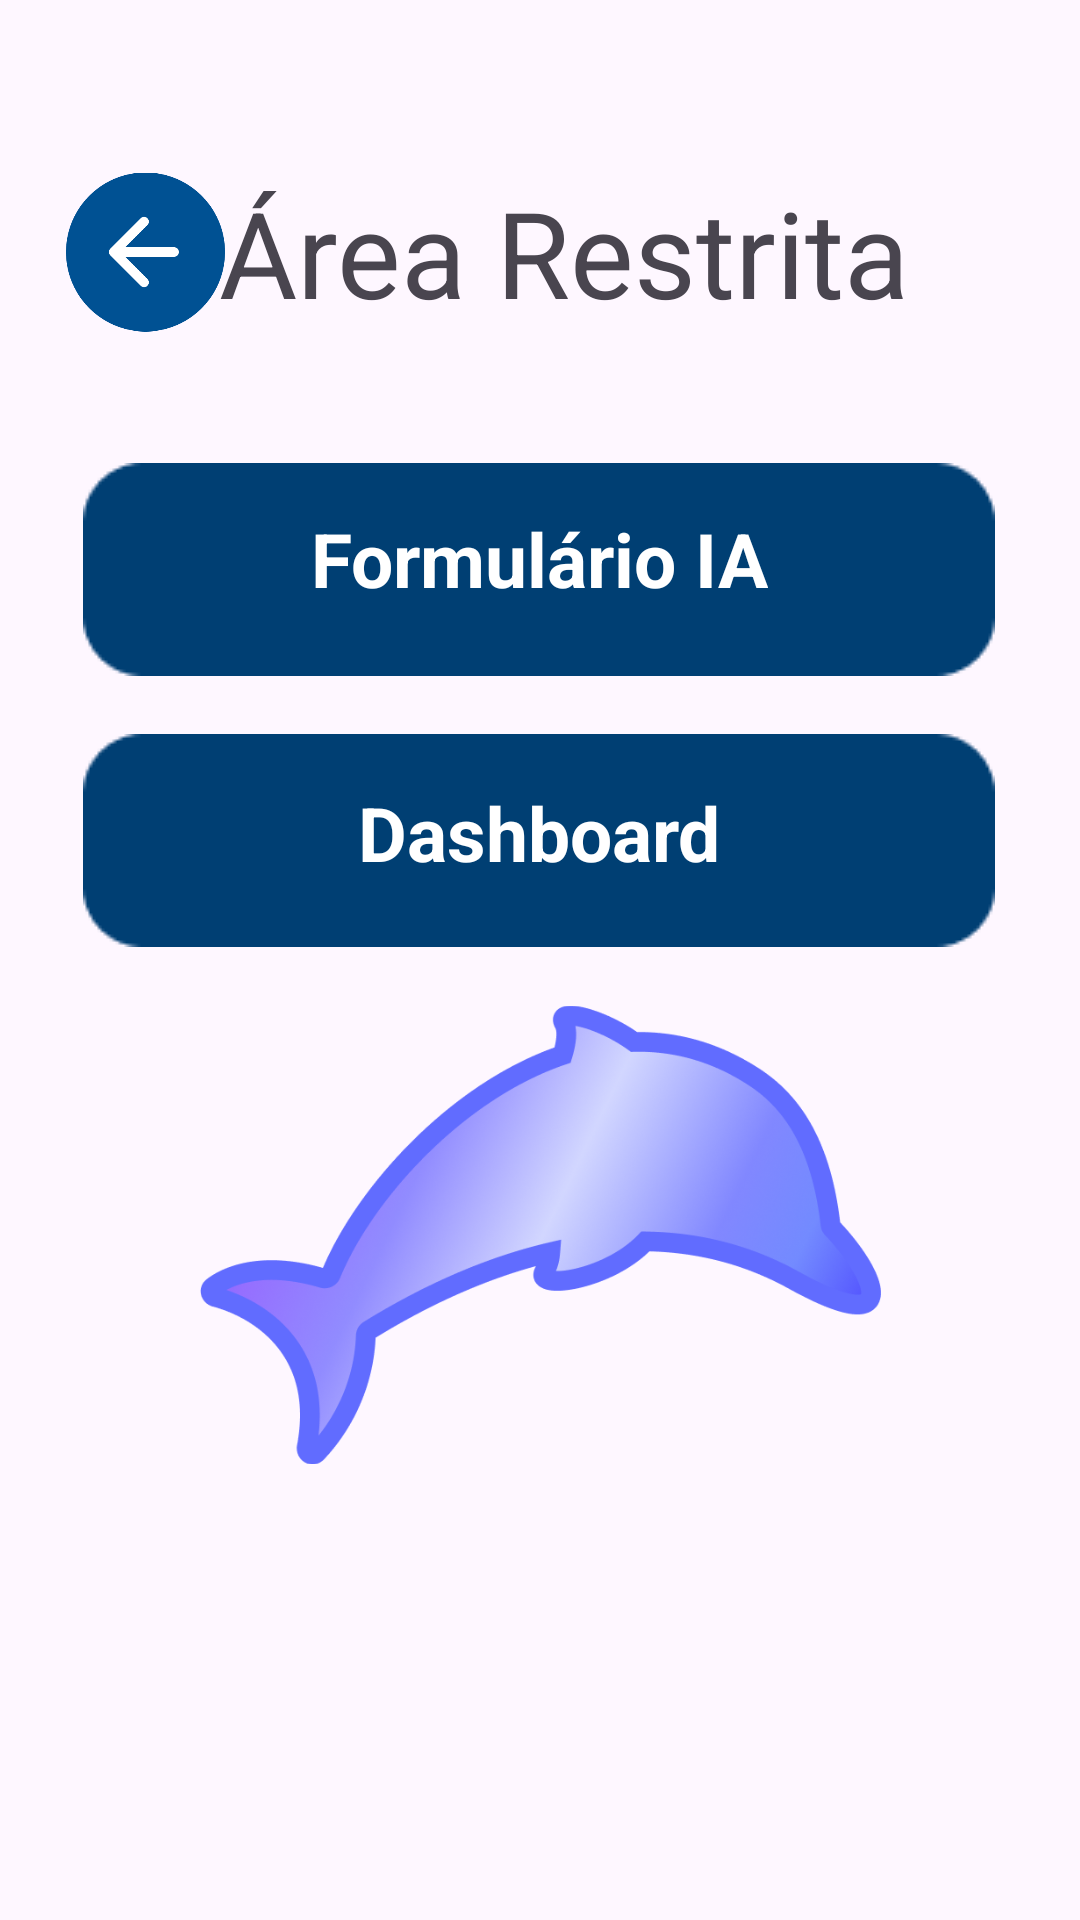

Icon bounding boxes for this 1080×1920 phone screenshot, format bbox=[x1, y1, x2, y2]:
seta voltar: bbox=[66, 173, 225, 332]
